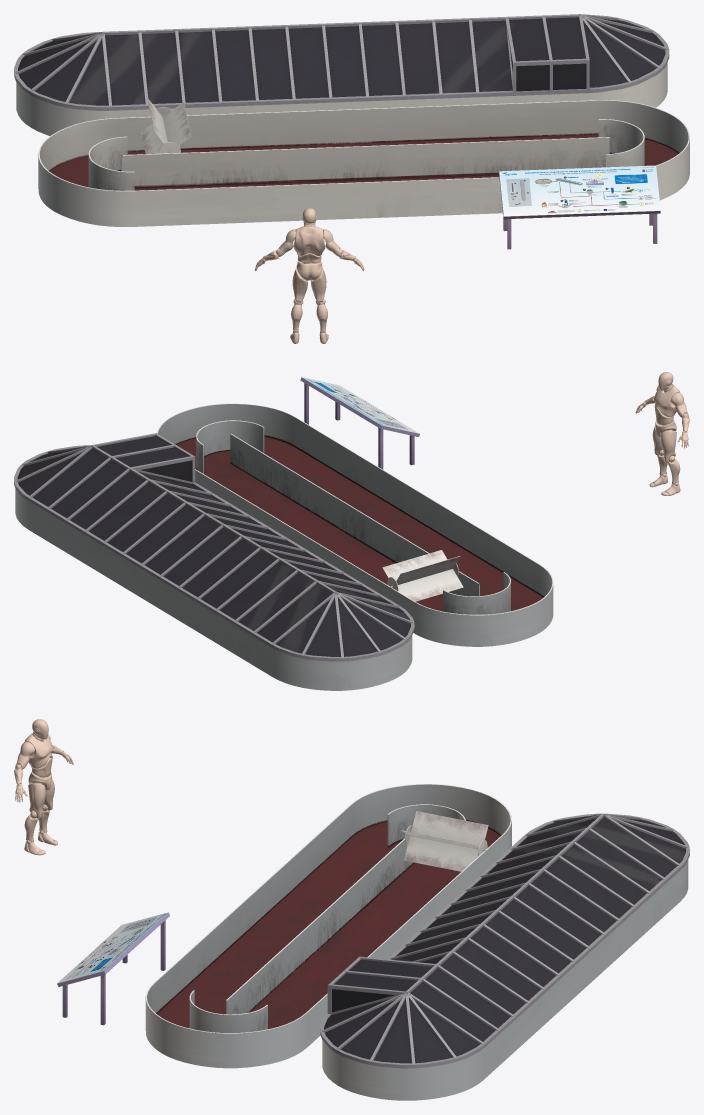
The model's file is Reactor_REACT.glb.
3 views of the same model, one above another, from view 1: azimuth 30°, elevation 25°; view 2: azimuth 150°, elevation 25°; view 3: azimuth 270°, elevation 25° (orthographic). The views are drawn at different scales.
Parts seen in each view (by area): view 1: Object003, Shape008, Object012, Object015, UDK_man001, Object001, Box035; view 2: Object003, Shape008, Object015, UDK_man001, Object001, Box035, Object012; view 3: Object003, Shape008, Object015, Object001, UDK_man001, Object012, Box035.
Boxes of the visible parts, bbox=[...] form: Object003: bbox=[38, 100, 689, 226]; Shape008: bbox=[14, 14, 669, 110]; Object012: bbox=[499, 165, 660, 216]; Object015: bbox=[16, 62, 667, 135]; UDK_man001: bbox=[254, 208, 364, 343]; Object001: bbox=[141, 98, 191, 153]; Box035: bbox=[499, 172, 660, 249]; Object003: bbox=[157, 403, 553, 646]; Shape008: bbox=[14, 433, 414, 661]; Object015: bbox=[15, 489, 412, 690]; UDK_man001: bbox=[635, 372, 689, 495]; Object001: bbox=[382, 550, 463, 601]; Box035: bbox=[300, 377, 419, 469]; Object012: bbox=[302, 377, 419, 433]; Object003: bbox=[145, 784, 511, 1068]; Shape008: bbox=[320, 813, 689, 1068]; Object015: bbox=[322, 860, 688, 1100]; Object001: bbox=[401, 811, 488, 871]; UDK_man001: bbox=[14, 719, 73, 855]; Object012: bbox=[57, 912, 168, 983]; Box035: bbox=[57, 912, 169, 1025].
Size of the model in its own units: 8.75 by 1.83 by 8.84.
Materials: 6 (5 with a texture image).
